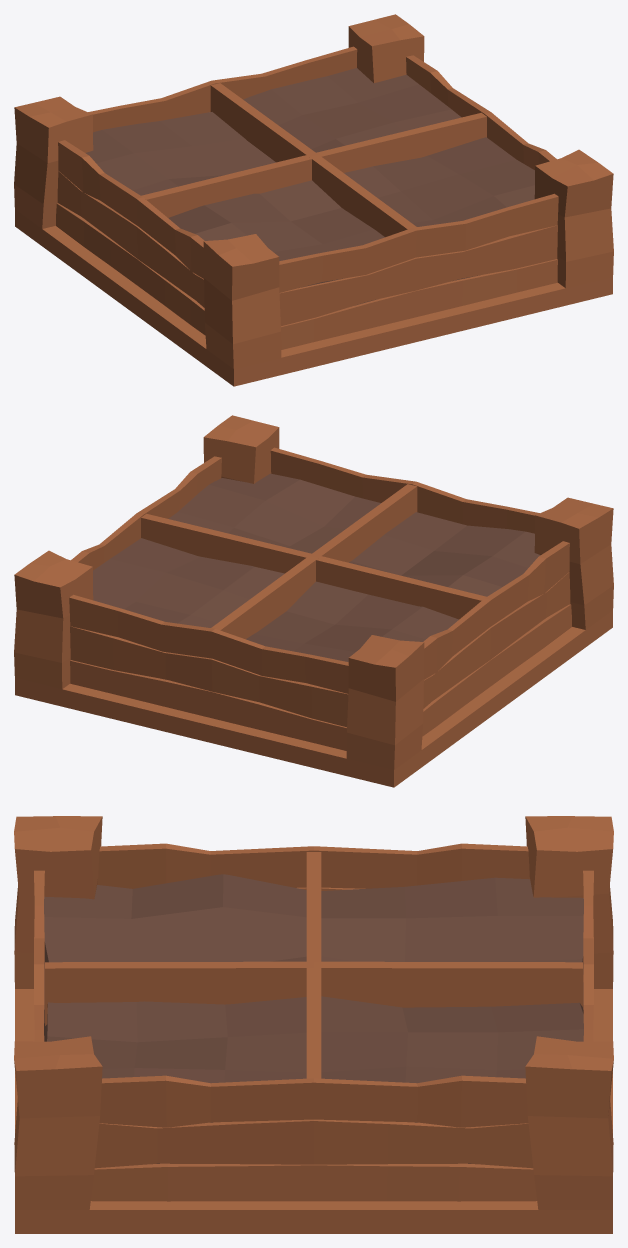
File: Planter.fbx
3 views of the same model, one above another, from view 1: azimuth 30°, elevation 25°; view 2: azimuth 150°, elevation 25°; view 3: azimuth 270°, elevation 25° (orthographic). The views are drawn at different scales.
Parts seen in each view (by area): view 1: Planter; view 2: Planter; view 3: Planter.
Boxes of the visible parts, x1,y1,x2,y2 form: Planter: (14,14,613,386); Planter: (14,415,613,787); Planter: (14,816,613,1233).
Size of the model in its own units: 201 by 61.28 by 201.
